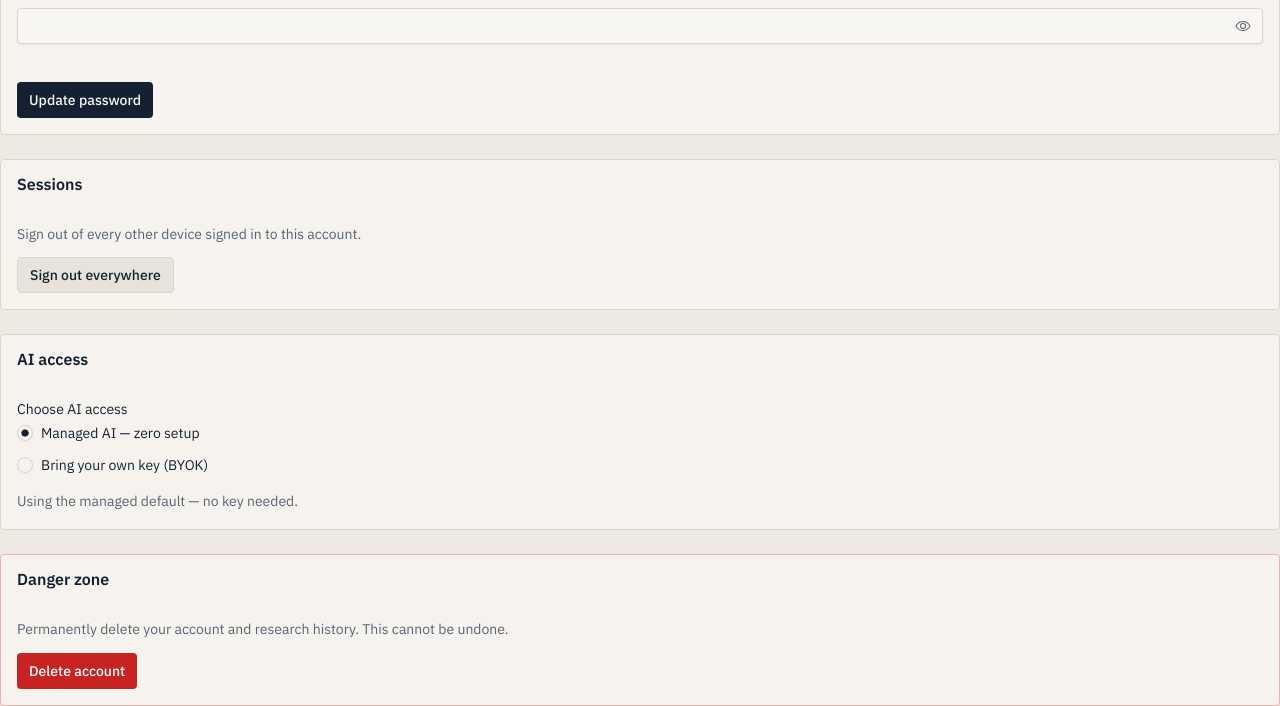
Test: SettingsPanel › delete account › shows the confirmation dialog and validates the email field
The width and height of the screenshot is (1280, 706).
(page scrolled)
Step 1. Click the button "Delete account" → x=77, y=671, box [17,653,137,689]
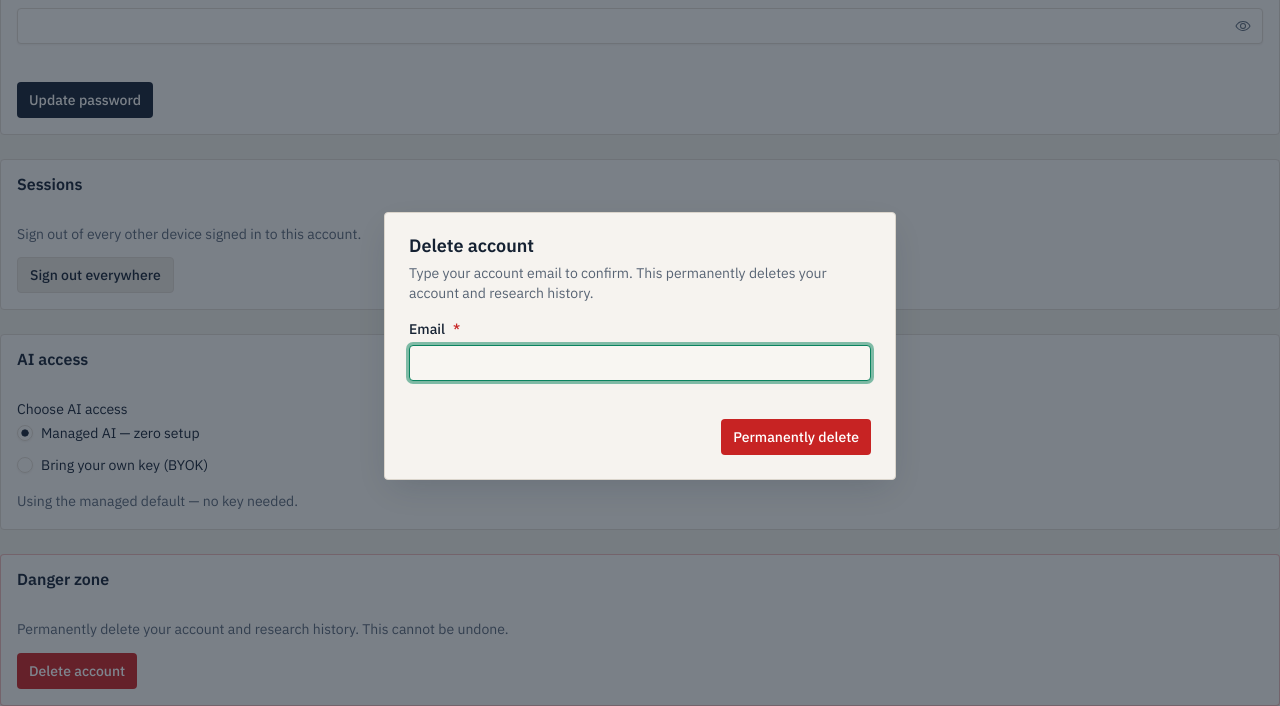
Step 2. Click the button "Permanently delete" → x=796, y=437, box [721,419,871,455]
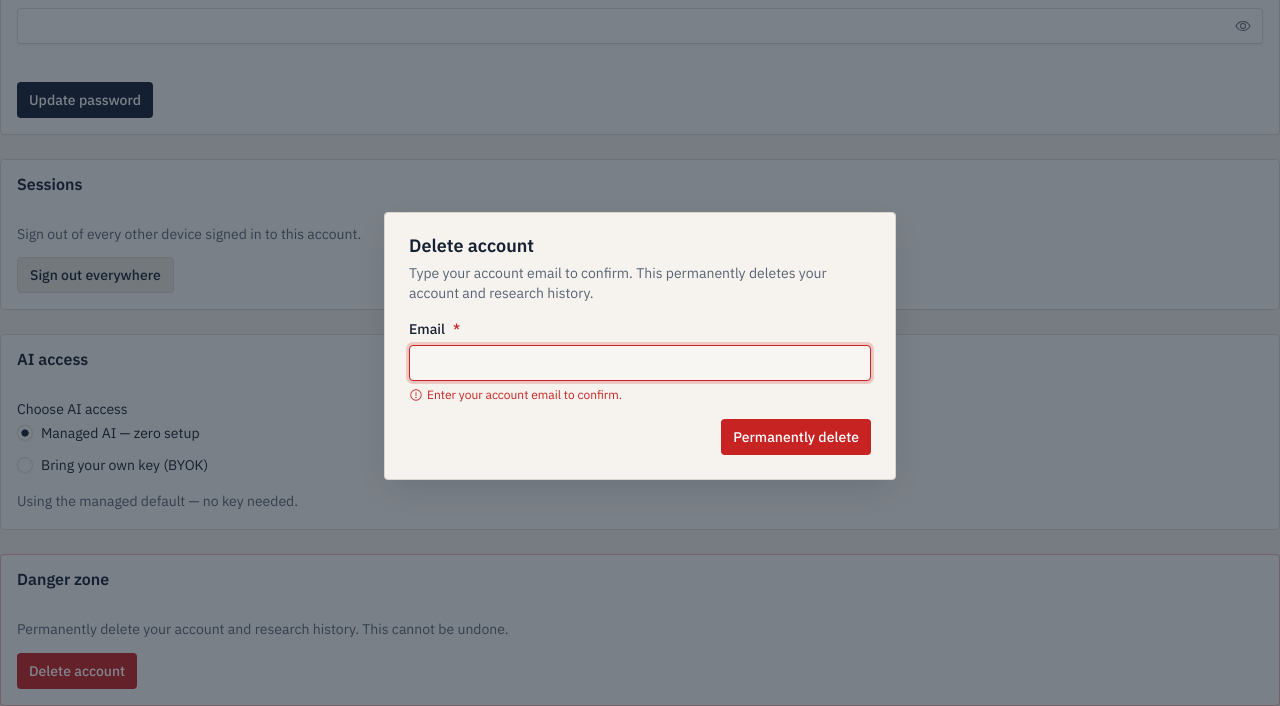
Now the text "Enter your account email to confirm." is shown, box [409,387,622,402]
